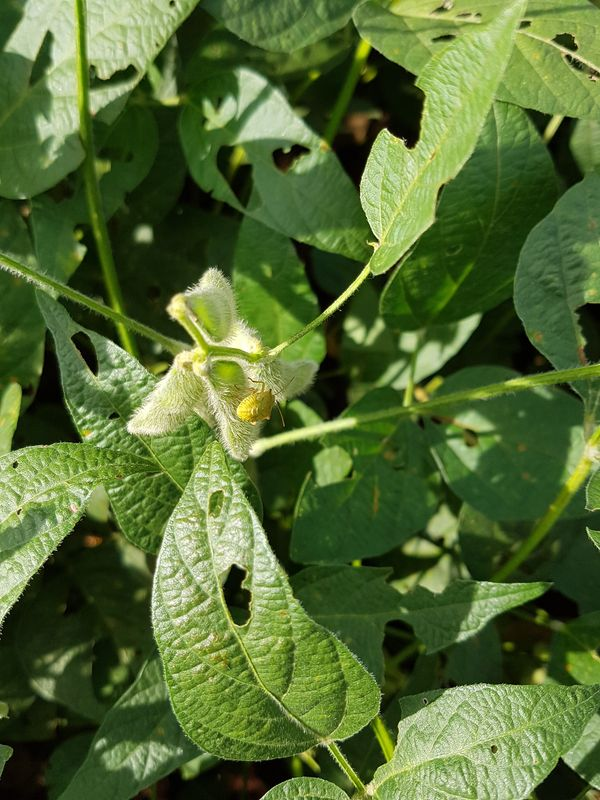Euschistus_heros_ninfa: (220, 373, 301, 436)
